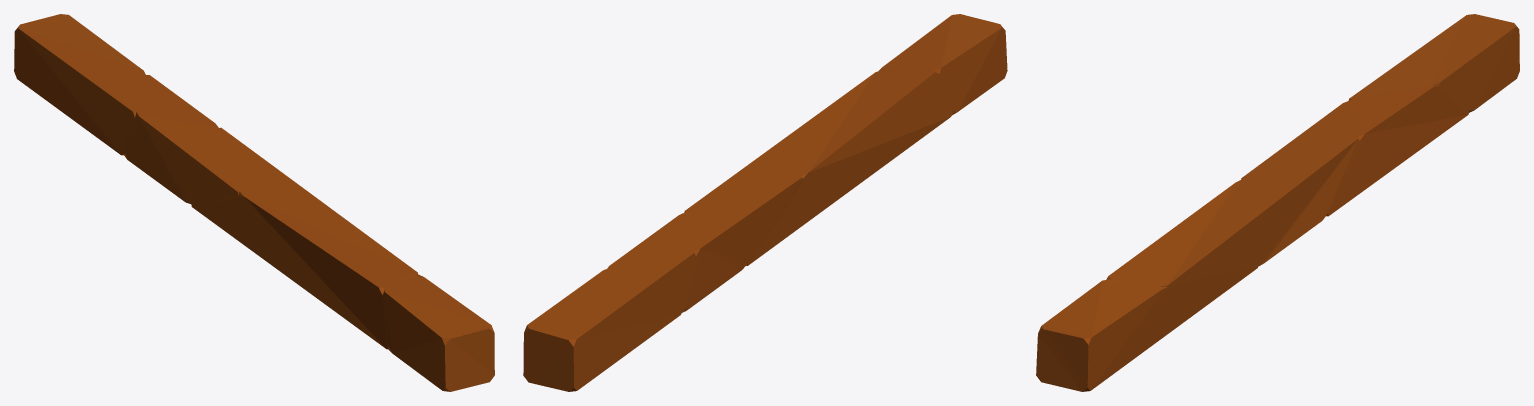
Rendered from WoodPillarHorSingle.fbx.
The picture shows the model from 3 angles, left to right: view 1: azimuth 30°, elevation 25°; view 2: azimuth 150°, elevation 25°; view 3: azimuth 330°, elevation 25°; orthographic projection.
Visible parts, largest first — view 1: WoodPillarHorSingle; view 2: WoodPillarHorSingle; view 3: WoodPillarHorSingle.
Part boxes in pixels (x1,y1,x2,y2): WoodPillarHorSingle: [14, 14, 494, 391]; WoodPillarHorSingle: [523, 14, 1007, 391]; WoodPillarHorSingle: [1036, 14, 1519, 391].
Bounding box in the file's own units: 145 × 146 × 2019.
